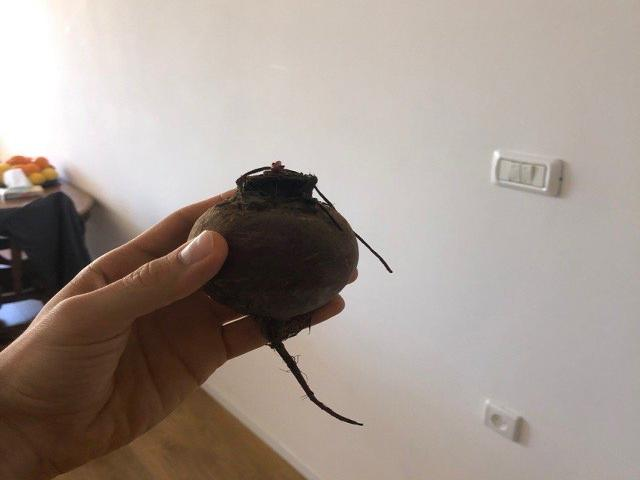beet: (186, 161, 394, 426)
